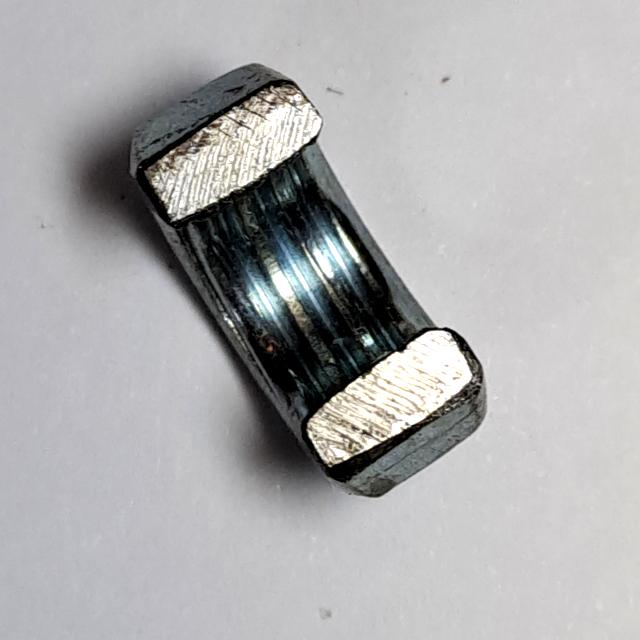Side-Fracture: (119, 44, 505, 517)
